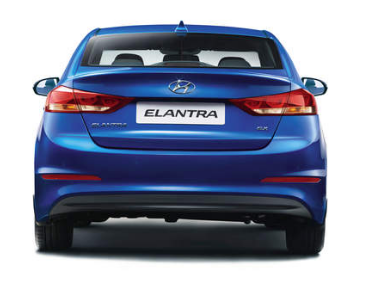car: (30, 18, 327, 261)
